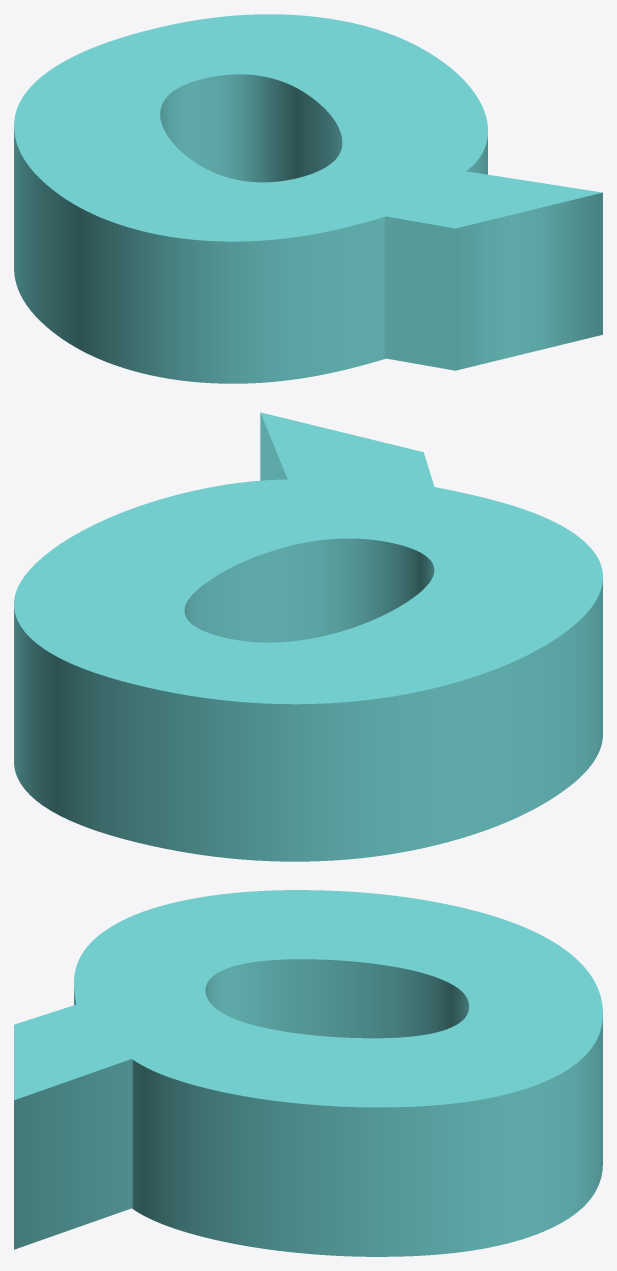
The picture shows the model from 3 angles, top to bottom: view 1: azimuth 30°, elevation 25°; view 2: azimuth 150°, elevation 25°; view 3: azimuth 270°, elevation 25°; orthographic projection. The views are drawn at different scales.
Visible parts, largest first — view 1: Q; view 2: Q; view 3: Q.
Part boxes in pixels (x1,y1,x2,y2): Q: [14, 14, 602, 383]; Q: [14, 412, 602, 861]; Q: [14, 890, 602, 1256].
Size of the model in its own units: 49.91 by 16 by 57.15.
